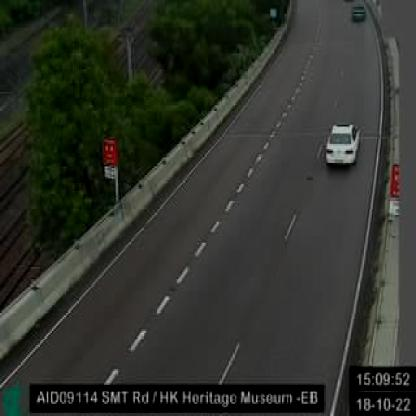Car: (323, 120, 362, 172), (352, 3, 366, 25)
